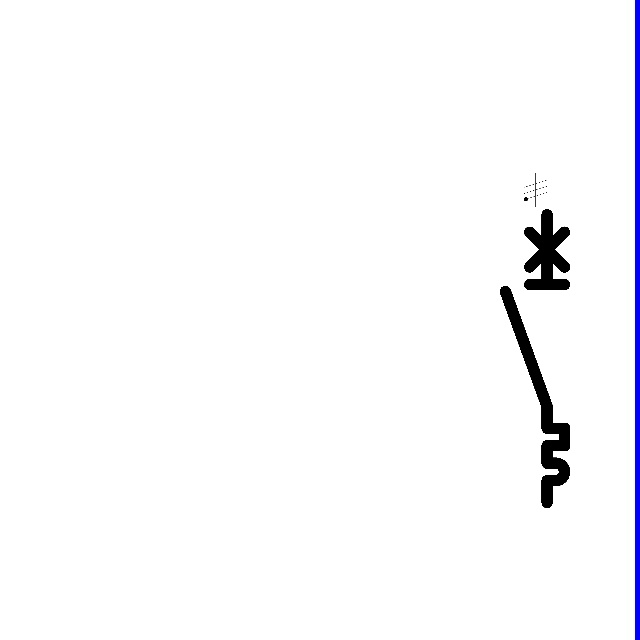interruptor_termomagnetico: (498, 207, 572, 510)
